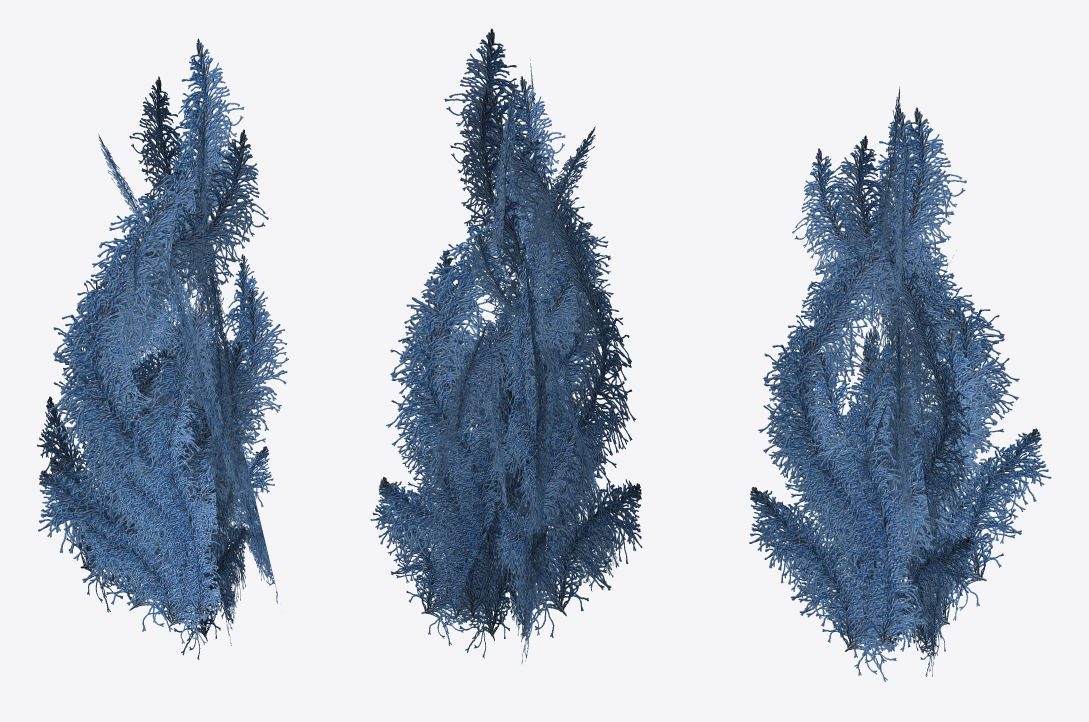
File: plante_5_1.FBX
3 renders of one model, left to right at view 1: azimuth 30°, elevation 25°; view 2: azimuth 150°, elevation 25°; view 3: azimuth 270°, elevation 25°, orthographic. The views are drawn at different scales.
Visible parts, largest first — view 1: Plane455; view 2: Plane455; view 3: Plane455.
Boxes of the visible parts, bbox=[...] form: Plane455: bbox=[37, 38, 288, 659]; Plane455: bbox=[370, 28, 642, 663]; Plane455: bbox=[749, 86, 1051, 681].
Bounding box in the file's own units: 153 × 334 × 166.
Materials: 1 (1 with a texture image).
